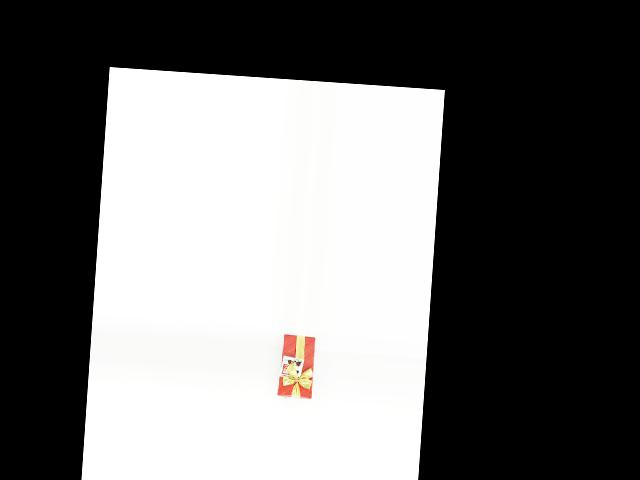chocolate: (277, 334, 318, 401)
